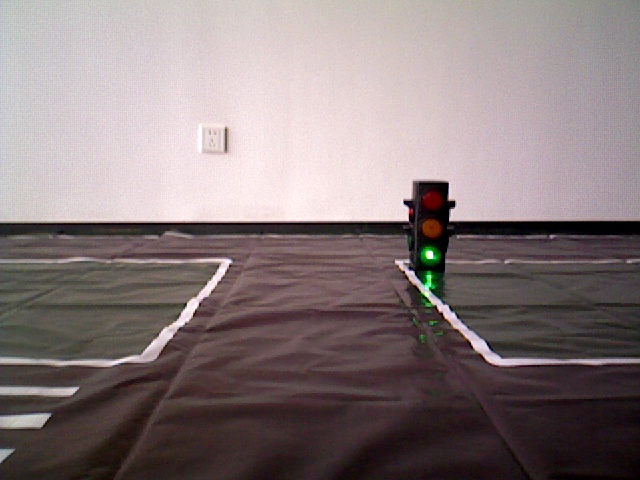green: (411, 183, 447, 266)
